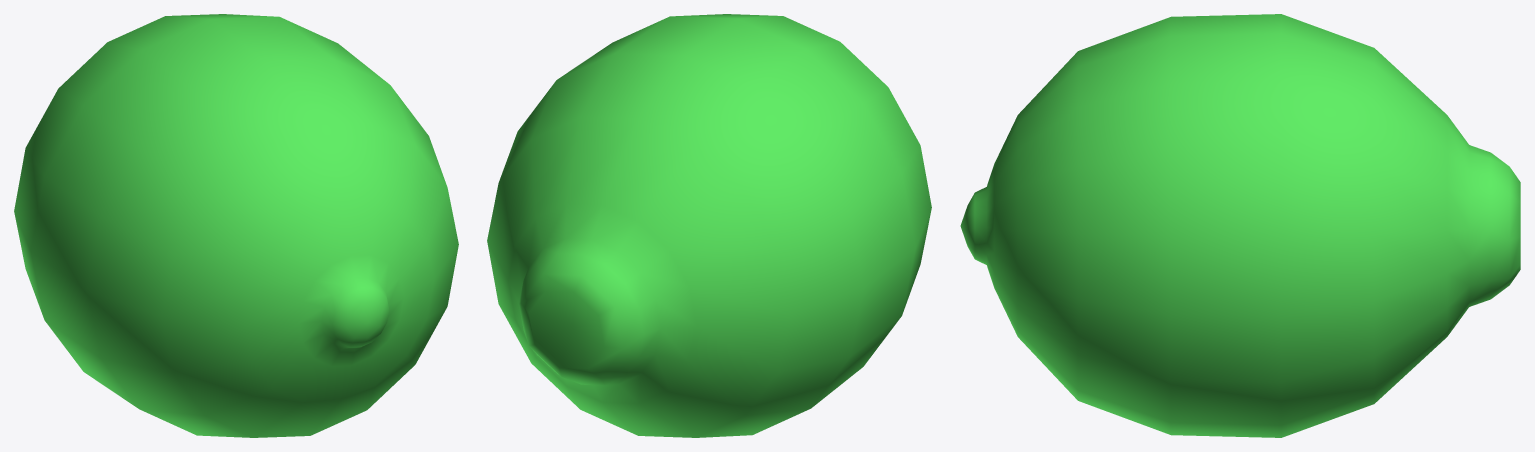
File: SM_town_lemon.fbx
The picture shows the model from 3 angles, left to right: view 1: azimuth 30°, elevation 25°; view 2: azimuth 150°, elevation 25°; view 3: azimuth 270°, elevation 25°; orthographic projection. The views are drawn at different scales.
Parts seen in each view (by area): view 1: lemon_low; view 2: lemon_low; view 3: lemon_low.
Part boxes in pixels (left/top/right/bottom): lemon_low: left=14, top=14, right=458, bottom=437; lemon_low: left=487, top=14, right=931, bottom=437; lemon_low: left=960, top=14, right=1520, bottom=437.
Bounding box in the file's own units: 9.75 × 9.75 × 12.86.
